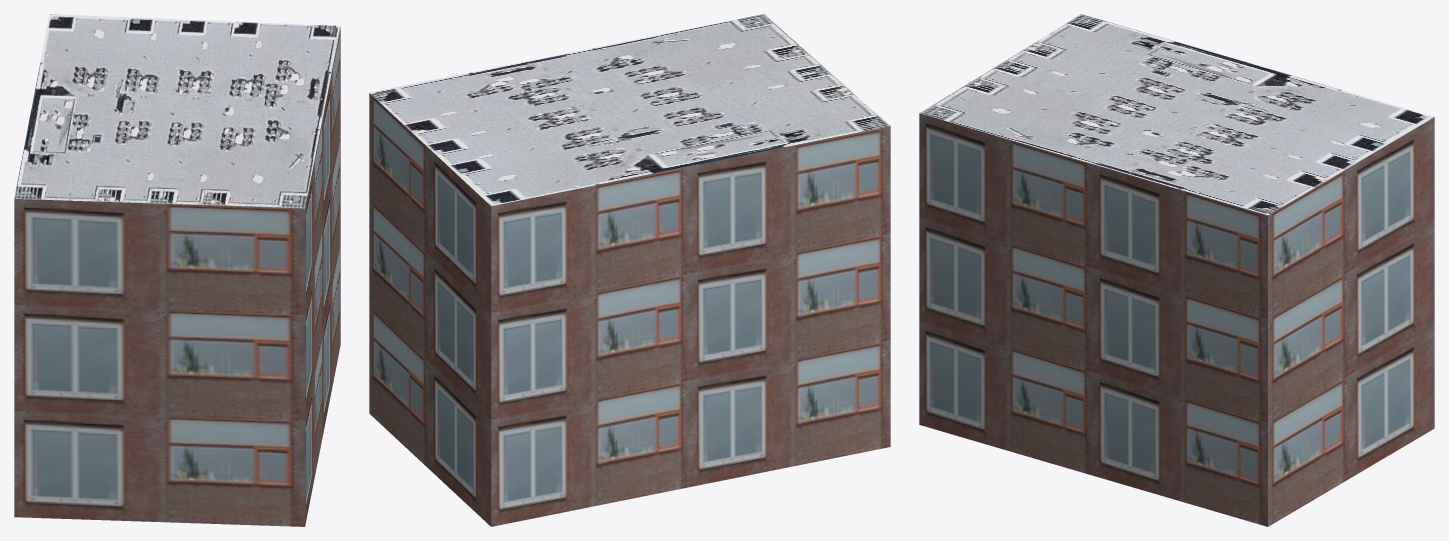
The model's file is ResTex__1862.fbx.
The picture shows the model from 3 angles, left to right: view 1: azimuth 30°, elevation 25°; view 2: azimuth 150°, elevation 25°; view 3: azimuth 270°, elevation 25°; orthographic projection. The views are drawn at different scales.
Parts seen in each view (by area): view 1: CityEngineMaterial_19_m, CityEngineMaterial_4_m; view 2: CityEngineMaterial_19_m, CityEngineMaterial_4_m; view 3: CityEngineMaterial_19_m, CityEngineMaterial_4_m.
Part boxes in pixels (x1,y1,x2,y2): CityEngineMaterial_19_m: [14, 28, 340, 526]; CityEngineMaterial_4_m: [14, 14, 340, 208]; CityEngineMaterial_19_m: [369, 93, 890, 526]; CityEngineMaterial_4_m: [369, 14, 890, 206]; CityEngineMaterial_19_m: [919, 113, 1434, 526]; CityEngineMaterial_4_m: [919, 14, 1433, 215].
Size of the model in its own units: 12.49 by 9 by 13.49.
2 materials, 2 textured.
